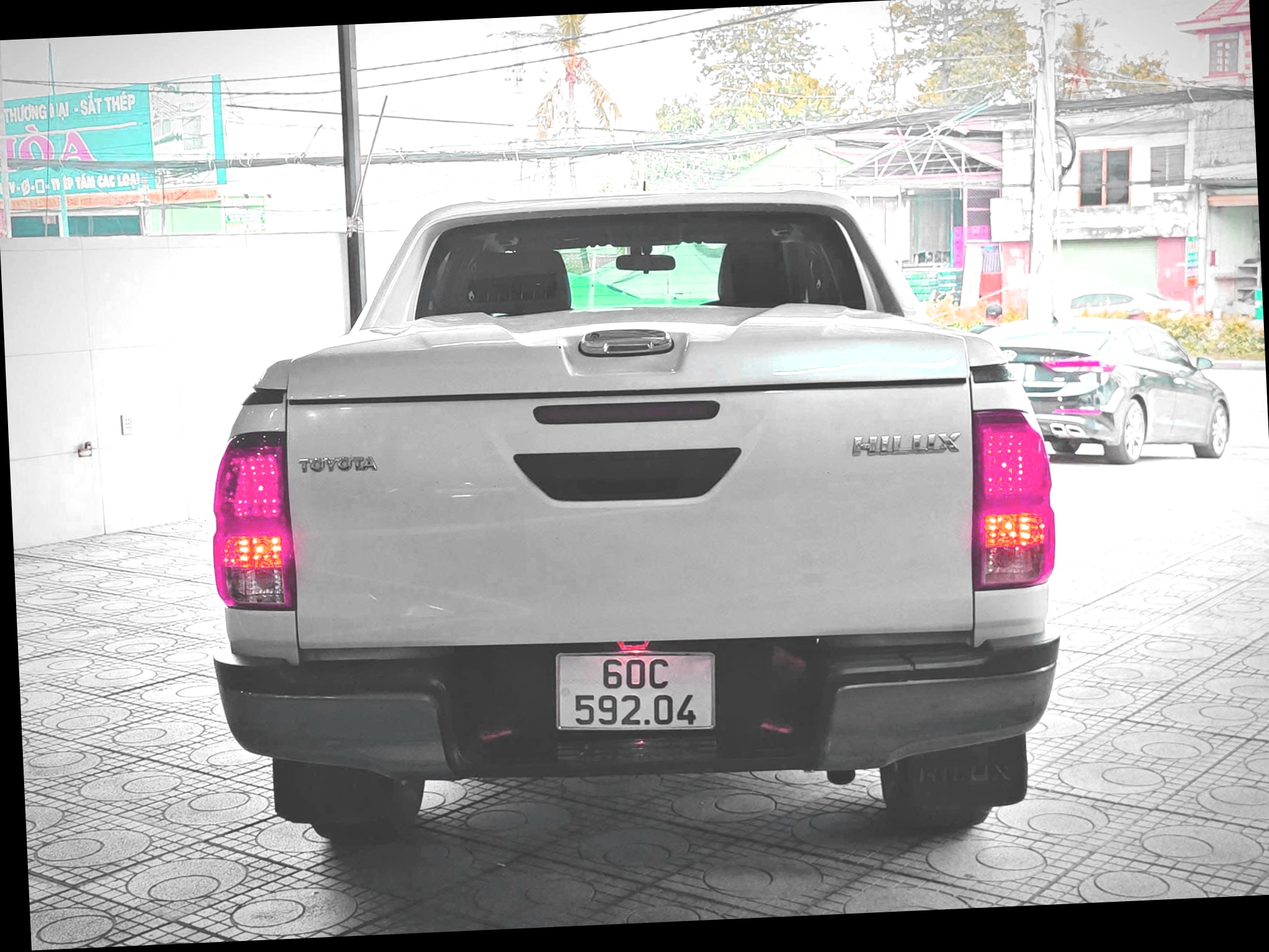Bien-so: (564, 686, 738, 780)
